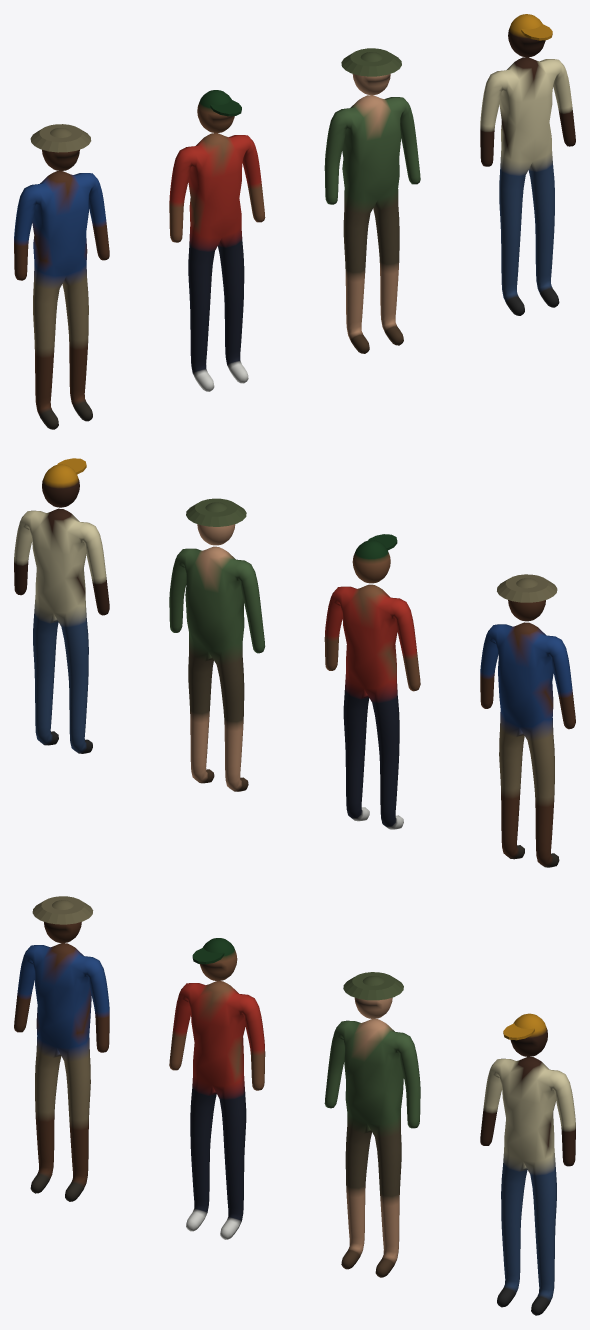
File: personStand.glb
3 renders of one model, top to bottom at view 1: azimuth 30°, elevation 25°; view 2: azimuth 150°, elevation 25°; view 3: azimuth 330°, elevation 25°, orthographic.
Visible parts, largest first — view 1: stand_2, stand_0, stand_1, stand_3; view 2: stand_2, stand_0, stand_1, stand_3; view 3: stand_2, stand_0, stand_1, stand_3.
Boxes of the visible parts, x1,y1,x2,y2 form: stand_2: (324, 48, 420, 353); stand_0: (14, 124, 109, 429); stand_1: (169, 90, 265, 391); stand_3: (480, 14, 575, 315); stand_2: (169, 498, 265, 791); stand_0: (480, 574, 575, 867); stand_1: (324, 534, 420, 829); stand_3: (14, 458, 109, 753); stand_2: (324, 972, 420, 1277); stand_0: (14, 896, 109, 1201); stand_1: (169, 938, 265, 1239); stand_3: (480, 1013, 575, 1315).
Bounding box in the file's own units: 3.6 × 1.78 × 0.392.
